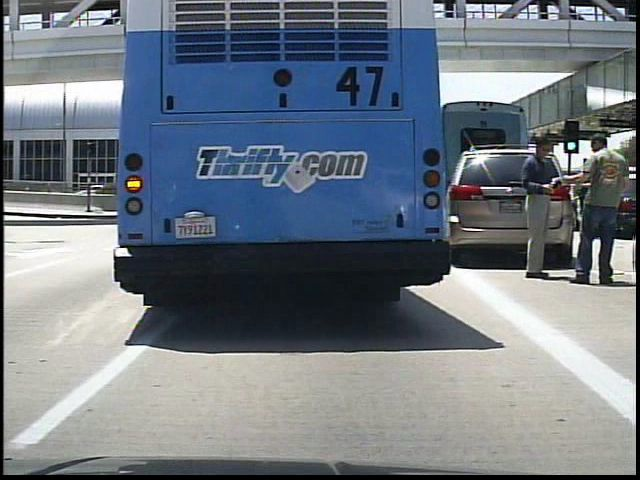person: (568, 121, 628, 291), (515, 130, 566, 280)
